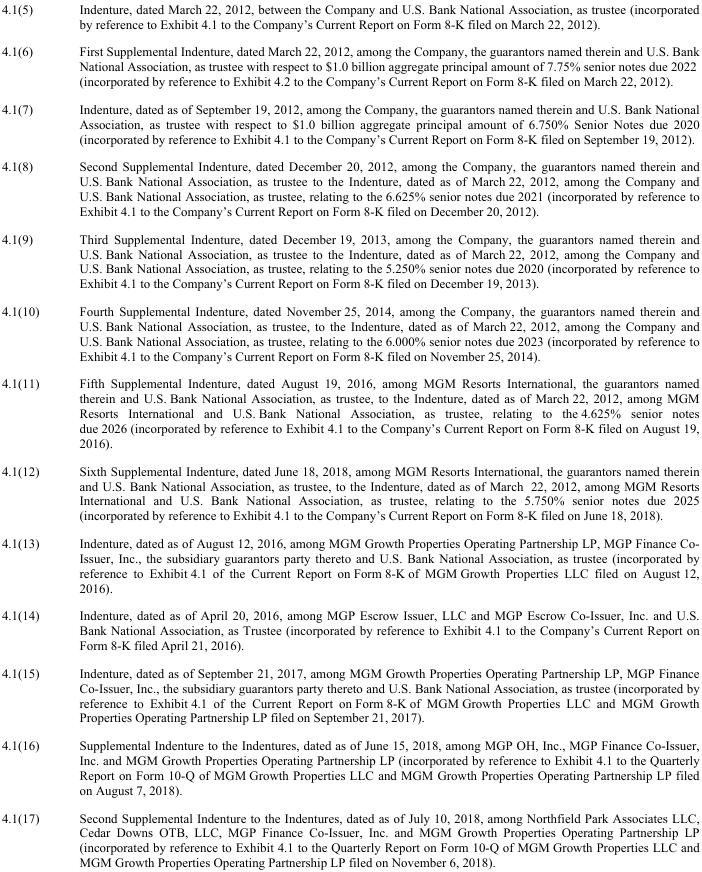table: (0, 1, 698, 868)
table column: (58, 1, 698, 868), (0, 1, 58, 868)
table row: (0, 369, 698, 456), (0, 296, 698, 369), (0, 528, 698, 601), (0, 730, 698, 803), (0, 152, 698, 224), (0, 224, 698, 296), (0, 456, 698, 528), (0, 658, 698, 730), (0, 803, 698, 868), (0, 94, 698, 152), (0, 37, 698, 94), (0, 601, 698, 658), (0, 1, 698, 37)
